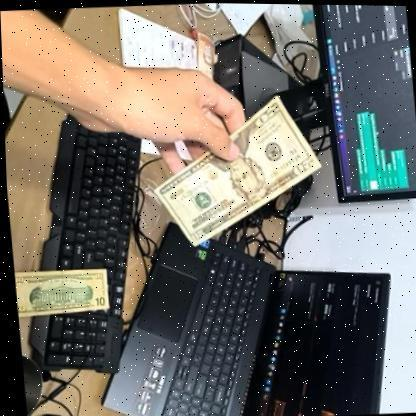ten-back: (11, 264, 108, 319)
twenty-front: (144, 90, 326, 250)
